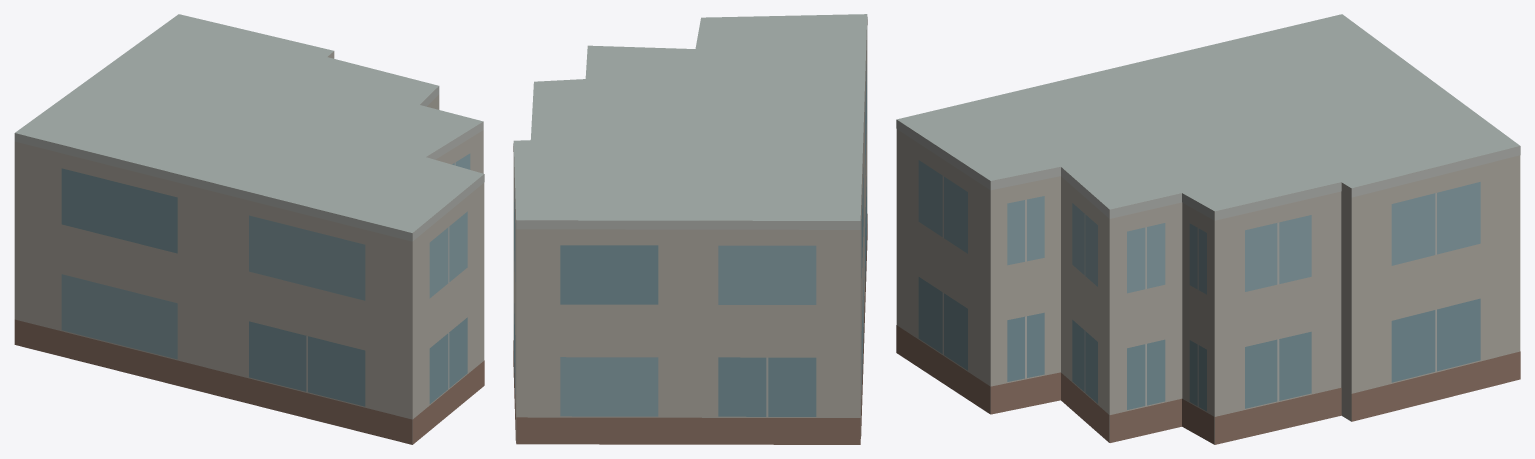
File: survey-upis-32663150.glb
3 renders of one model, left to right at view 1: azimuth 30°, elevation 25°; view 2: azimuth 150°, elevation 25°; view 3: azimuth 270°, elevation 25°, orthographic. The views are drawn at different scales.
Visible parts, largest first — view 1: survey-upis-32663150.tmp; view 2: survey-upis-32663150.tmp; view 3: survey-upis-32663150.tmp.
Part boxes in pixels (x1=…): survey-upis-32663150.tmp: x1=14, y1=14, x2=484, y2=444; survey-upis-32663150.tmp: x1=513, y1=14, x2=867, y2=444; survey-upis-32663150.tmp: x1=896, y1=14, x2=1520, y2=444.
Size of the model in its own units: 11.07 by 6.1 by 14.79.
